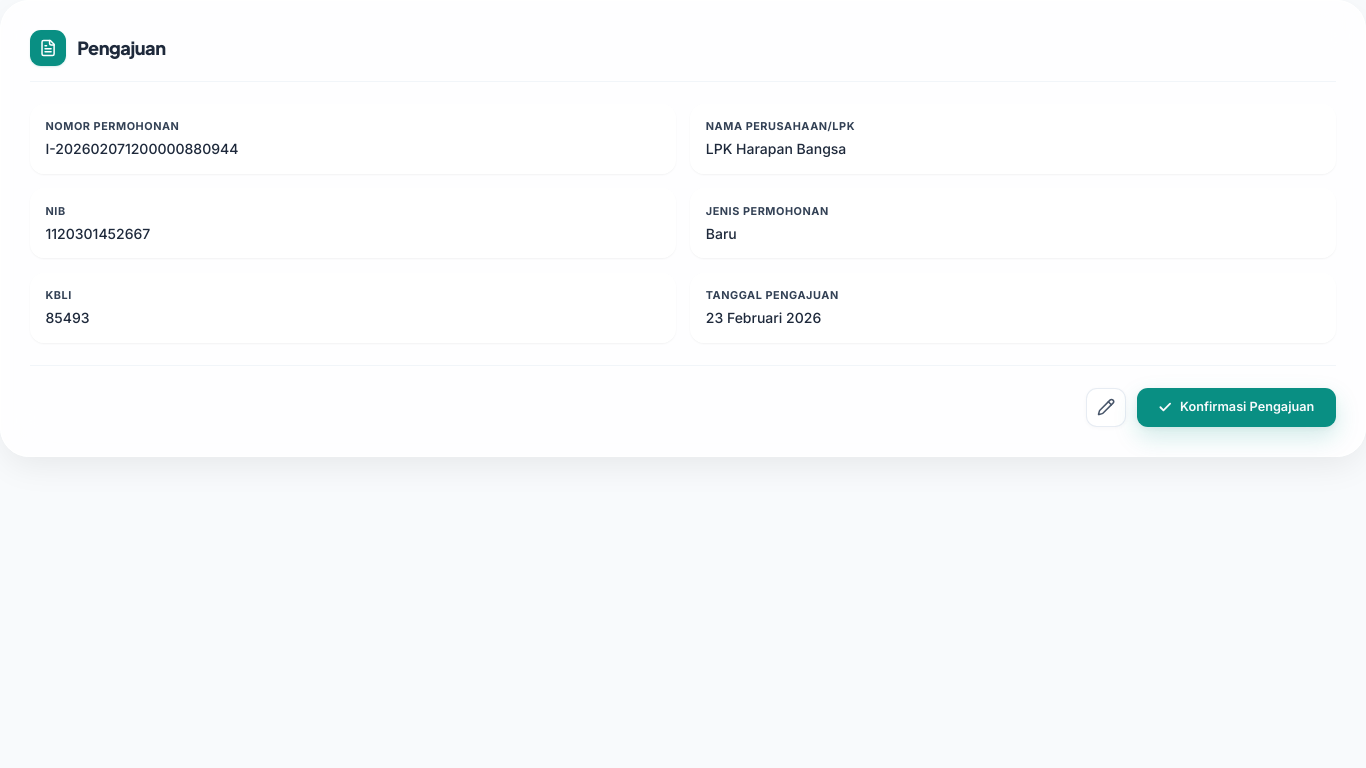
Test: session flow › disables save button on pengajuan edit when no changes and saves directly when changed
Click the button named "Edit data permohonan" at (1106, 408), box top-left (1086, 388), bottom-right (1126, 428)
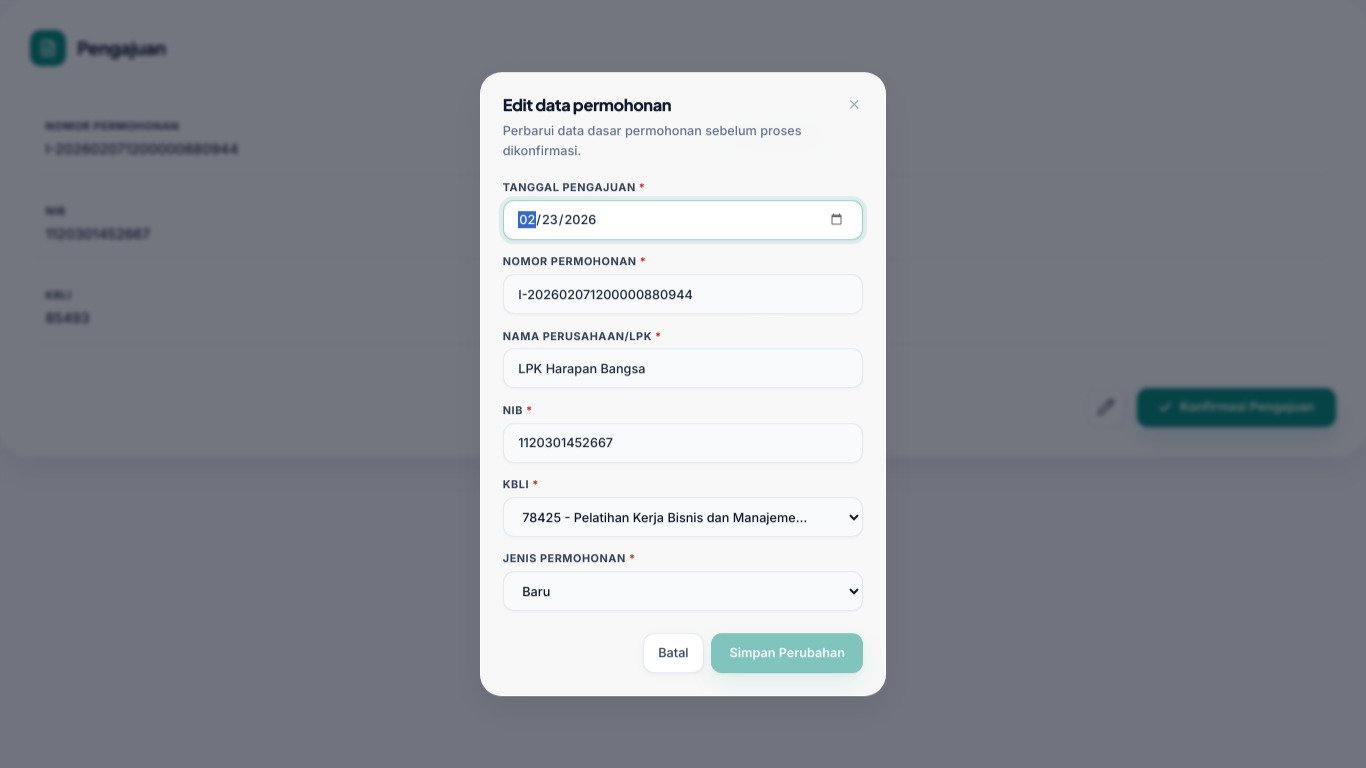
Check: the heading "Edit data permohonan" is shown, box top-left (503, 94), bottom-right (671, 115)
Check: the button "Simpan Perubahan" is disabled, box top-left (711, 633), bottom-right (863, 673)
Replace the text in the 1st field showing "I-202602071200000880944" with "I-202602071200000880945" at (683, 294), box top-left (503, 274), bottom-right (863, 314)
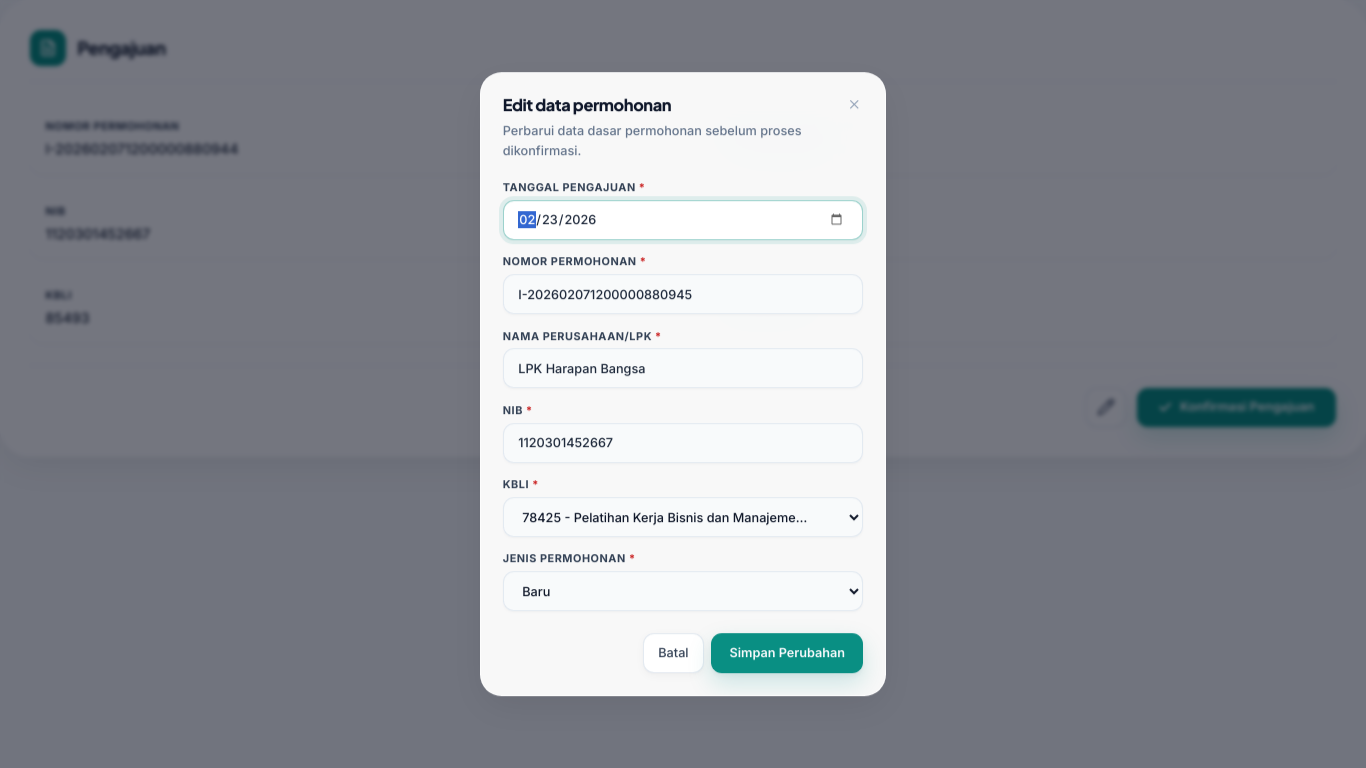
Check: the button "Simpan Perubahan" is enabled
Click the button "Simpan Perubahan" at (787, 653), box top-left (711, 633), bottom-right (863, 673)
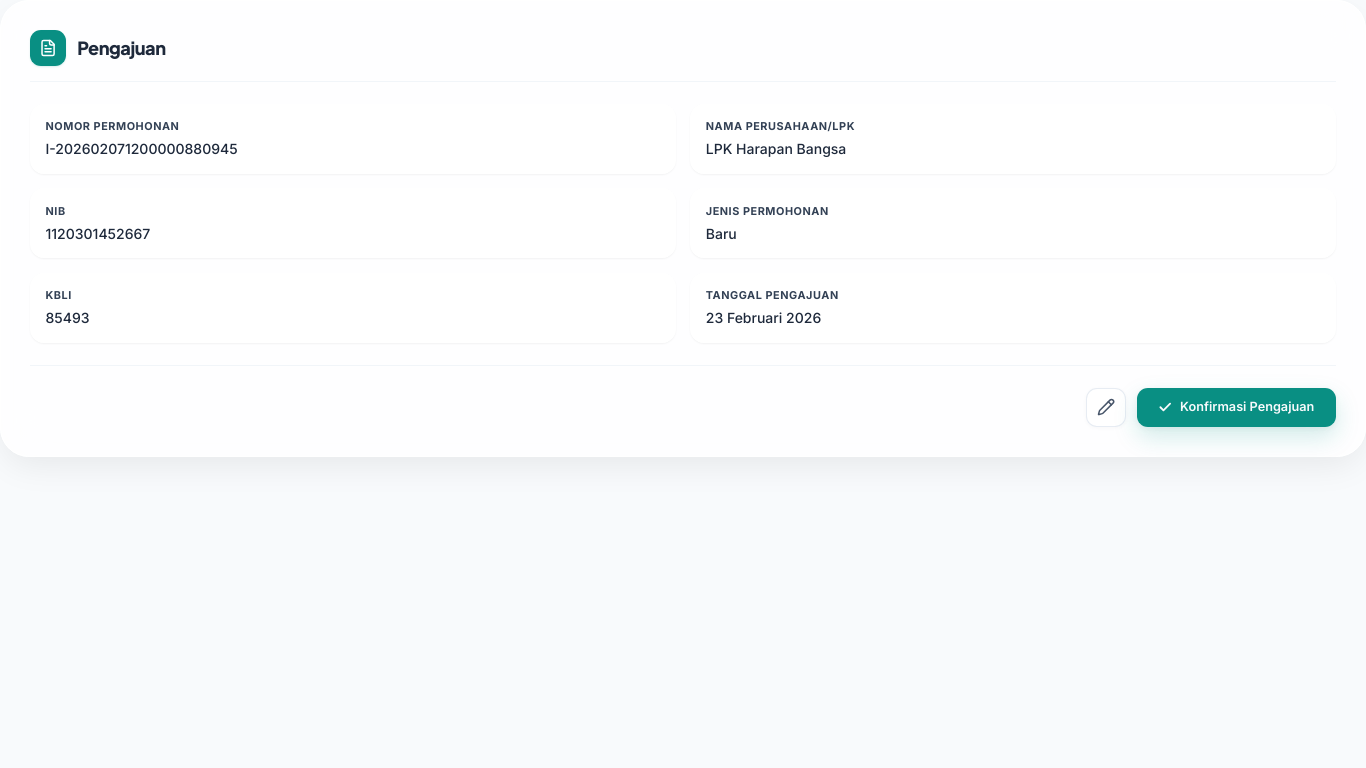
Check: the heading "Edit data permohonan" is gone
